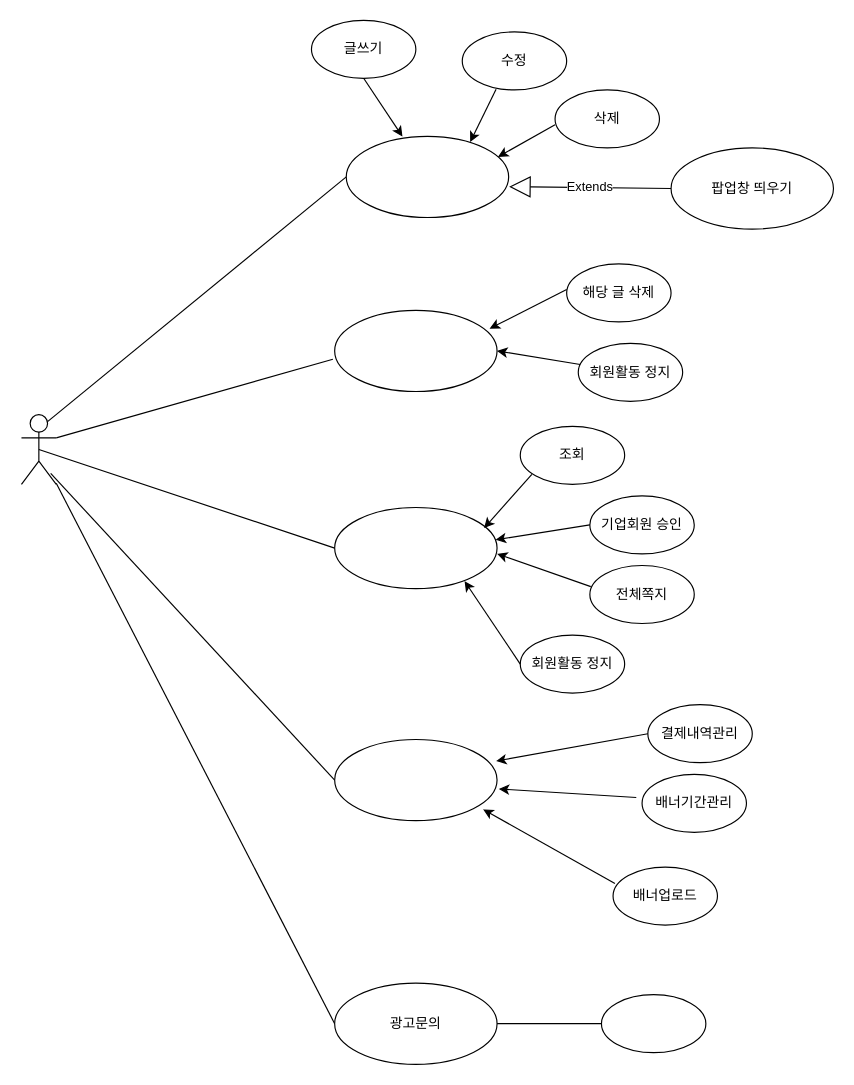
The diagram is 854 pixels wide and 1085 high, and some of its shapes have lost their labels. Each missing label, with the centre of its shape:
"공지사항" goes at (427,176).
"관리자" goes at (38,449).
"배너관리" goes at (415,779).
"승인" goes at (653,1023).
"신고관리" goes at (415,350).
"회원관리" goes at (415,547).
